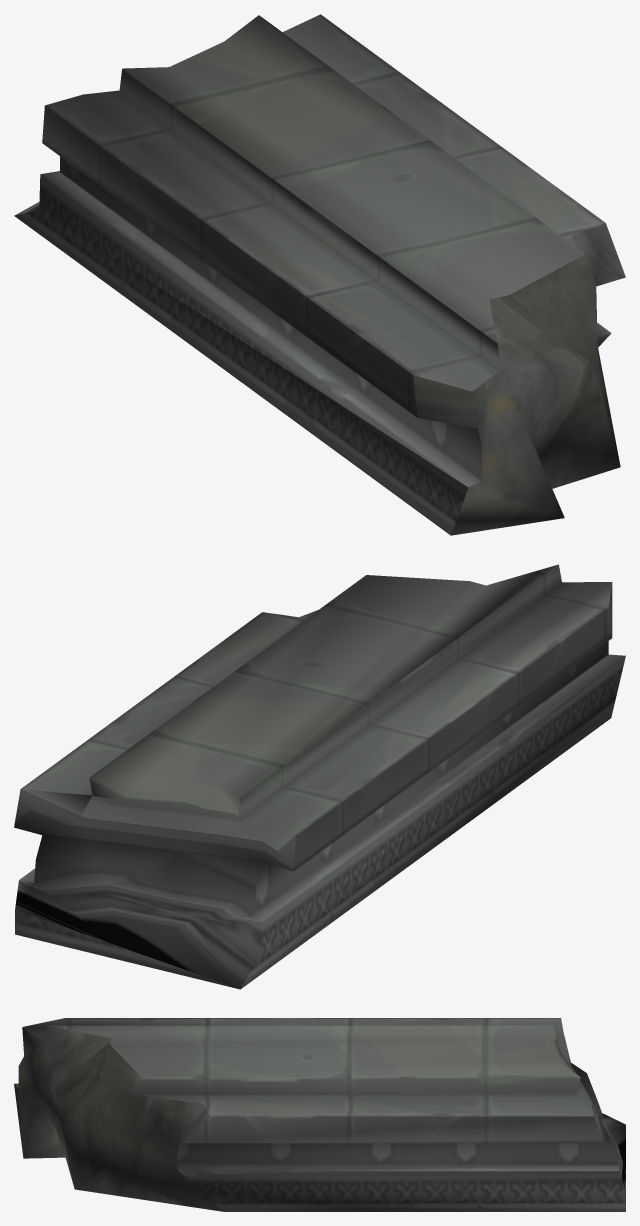
Rendered from sc_dungeon_moshenta_zhuantou_002_b.FBX.
3 views of the same model, one above another, from view 1: azimuth 30°, elevation 25°; view 2: azimuth 150°, elevation 25°; view 3: azimuth 270°, elevation 25° (orthographic). The views are drawn at different scales.
Visible parts, largest first — view 1: sc_dungeon_moshenta_zhuantou_002_b; view 2: sc_dungeon_moshenta_zhuantou_002_b; view 3: sc_dungeon_moshenta_zhuantou_002_b.
Part boxes in pixels (x1,y1,x2,y2): sc_dungeon_moshenta_zhuantou_002_b: (14,14,625,535); sc_dungeon_moshenta_zhuantou_002_b: (14,564,625,989); sc_dungeon_moshenta_zhuantou_002_b: (14,1018,625,1211).
Bounding box in the file's own units: 2.09 × 1.15 × 5.48.
1 material, 1 textured.
